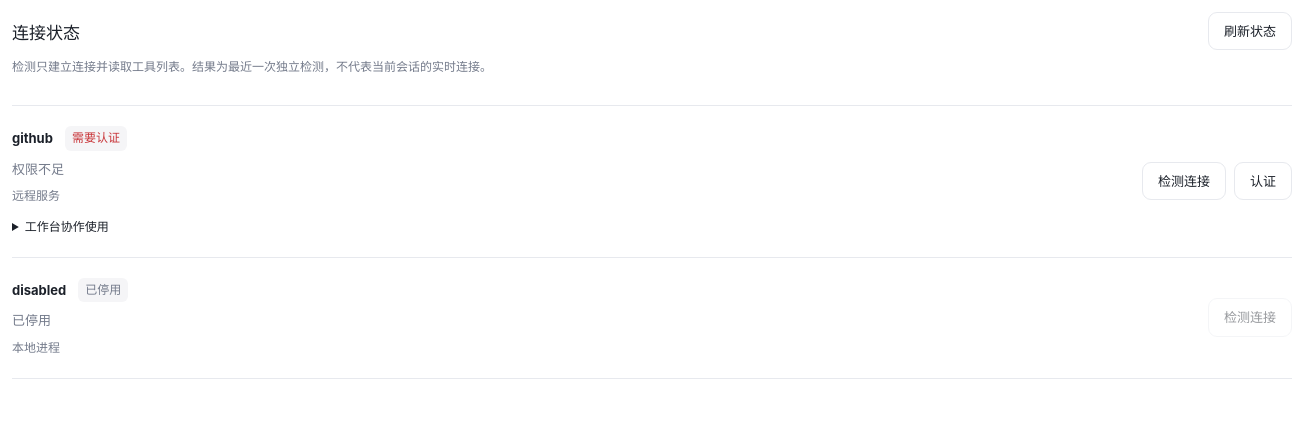
it: retains rows after refresh failure, ignores stale snapshots and clears polling on unmount
Step 1. Click the button "刷新状态" → (1250, 31), box x1=1208 y1=12 x2=1292 y2=50
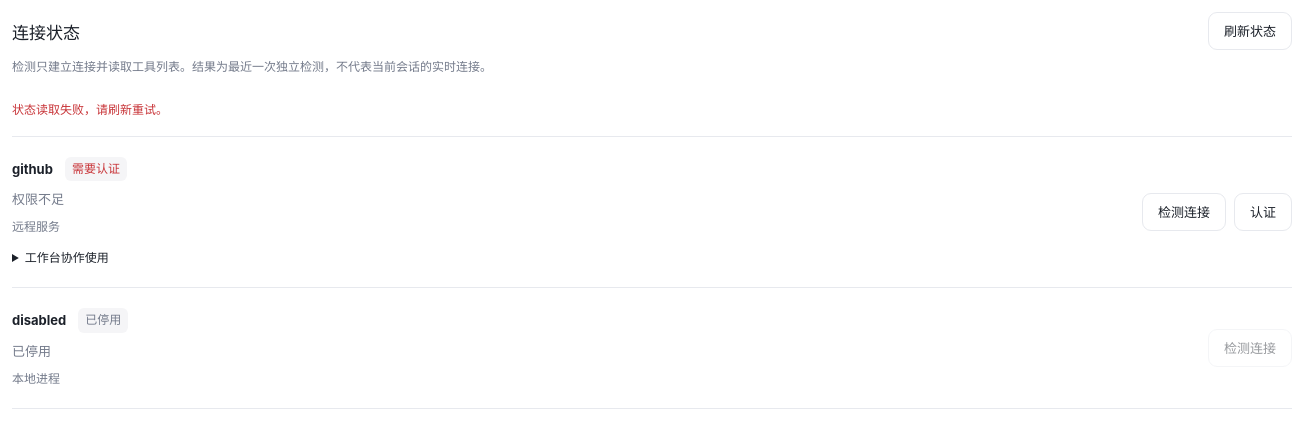
Expected: the text "权限不足" is shown, x1=12 y1=191 x2=64 y2=207
Result: the message "状态读取失败，请刷新重试。" is shown at x1=12 y1=102 x2=168 y2=117
